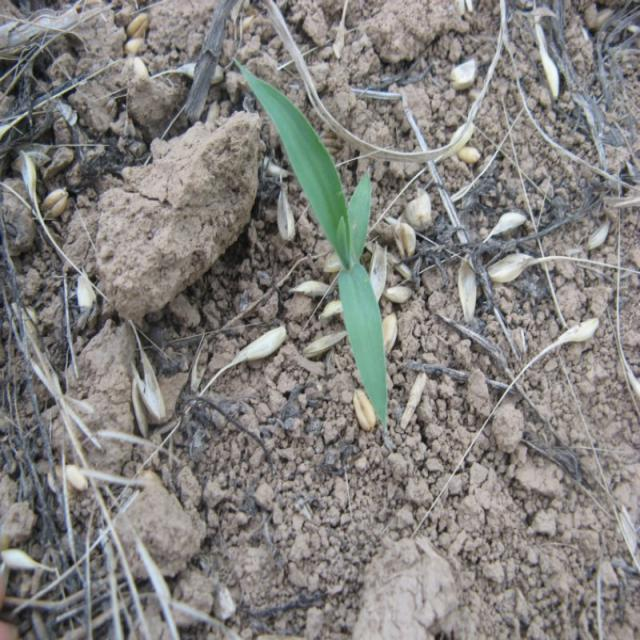bg: (231, 55, 392, 439)
